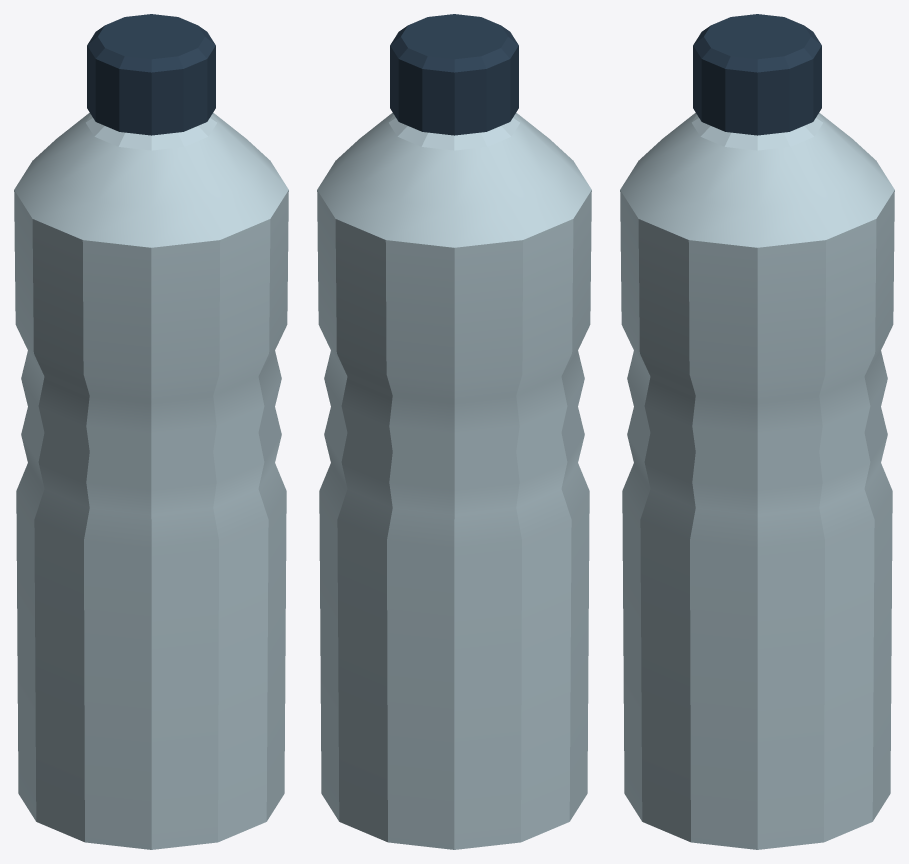
File: bottle.fbx
The picture shows the model from 3 angles, left to right: view 1: azimuth 30°, elevation 25°; view 2: azimuth 150°, elevation 25°; view 3: azimuth 270°, elevation 25°; orthographic projection.
Parts seen in each view (by area): view 1: pCylinder3; view 2: pCylinder3; view 3: pCylinder3.
Boxes of the visible parts, x1,y1,x2,y2 form: pCylinder3: [14, 14, 288, 849]; pCylinder3: [317, 14, 591, 849]; pCylinder3: [620, 14, 894, 849].
Size of the model in its own units: 2.08 by 6.42 by 2.08.
